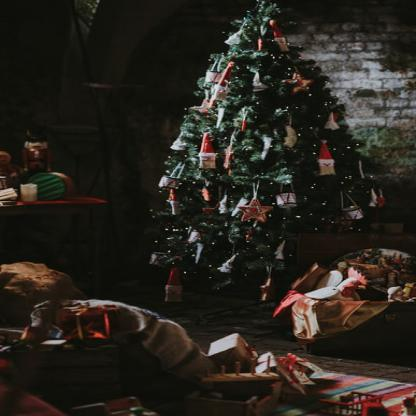present: (43, 303, 129, 345)
x_mas tree: (158, 5, 384, 314)
